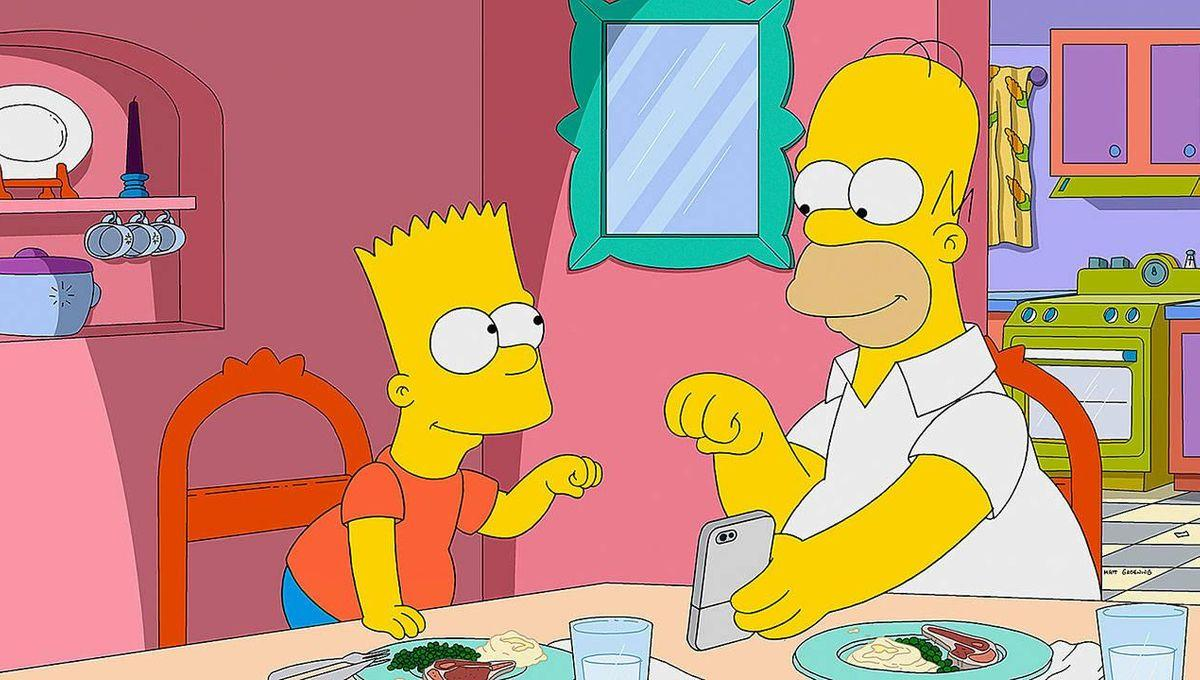Bart: (277, 193, 623, 647)
Homer: (701, 35, 1114, 636)
